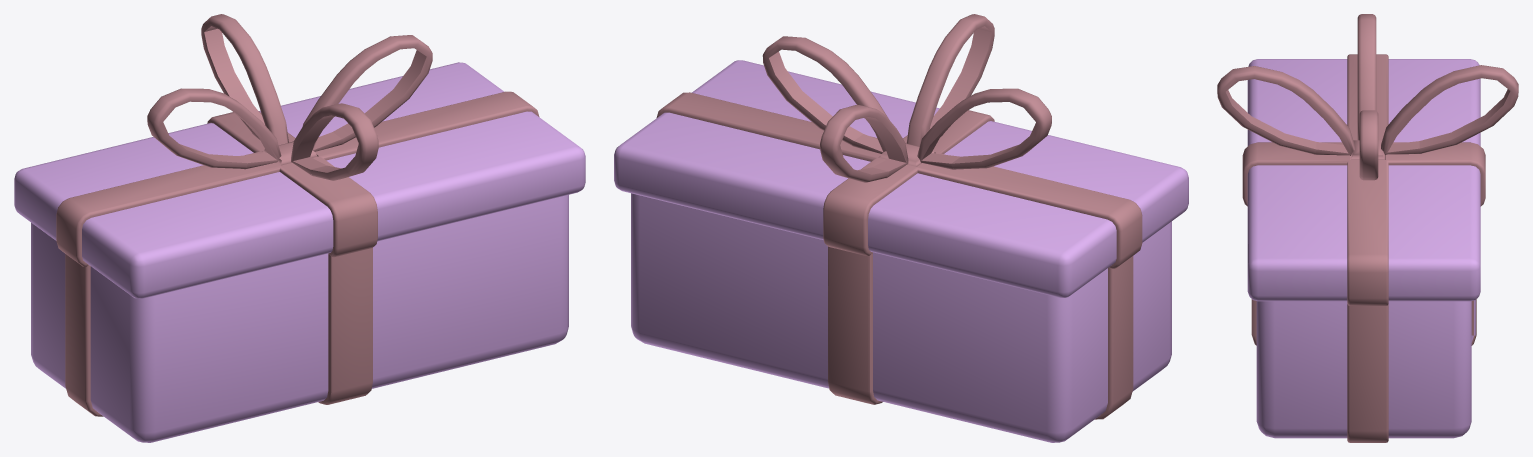
File: Gift Box_6.fbx
The picture shows the model from 3 angles, left to right: view 1: azimuth 30°, elevation 25°; view 2: azimuth 150°, elevation 25°; view 3: azimuth 270°, elevation 25°; orthographic projection. The views are drawn at different scales.
Parts seen in each view (by area): view 1: Gift Box_6; view 2: Gift Box_6; view 3: Gift Box_6.
Part boxes in pixels (bbox=[...]): Gift Box_6: bbox=[14, 14, 585, 442]; Gift Box_6: bbox=[614, 14, 1188, 442]; Gift Box_6: bbox=[1217, 14, 1518, 442].
Bounding box in the file's own units: 0.5982 × 0.3673 × 0.3616.
